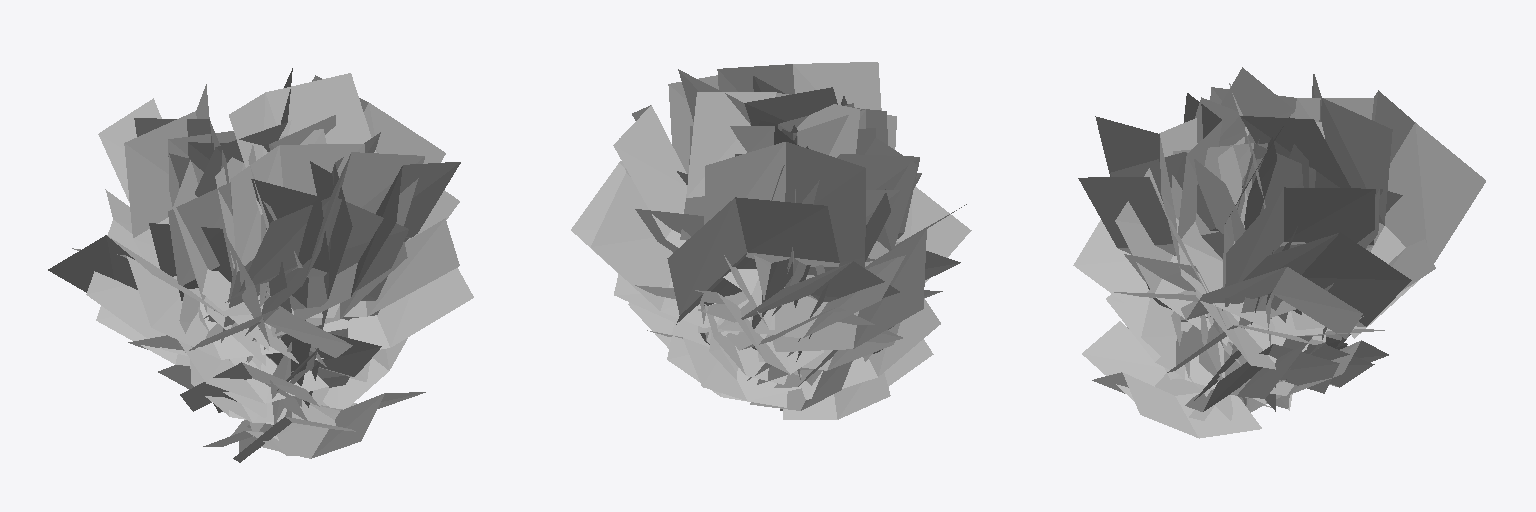
File: bushA.obj
3 views of the same model, side by side, from view 1: azimuth 30°, elevation 25°; view 2: azimuth 150°, elevation 25°; view 3: azimuth 270°, elevation 25° (orthographic).
Visible parts, largest first — view 1: Default; view 2: Default; view 3: Default.
Boxes of the visible parts, x1=… form: Default: x1=48, y1=68, x2=473, y2=462; Default: x1=571, y1=62, x2=971, y2=419; Default: x1=1073, y1=67, x2=1485, y2=438.
Bounding box in the file's own units: 8.52 × 7.44 × 8.38.